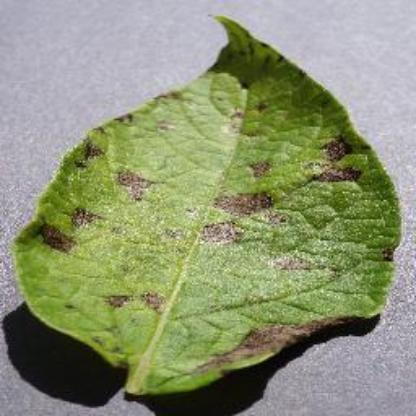Early-Blight: (17, 14, 402, 396)
